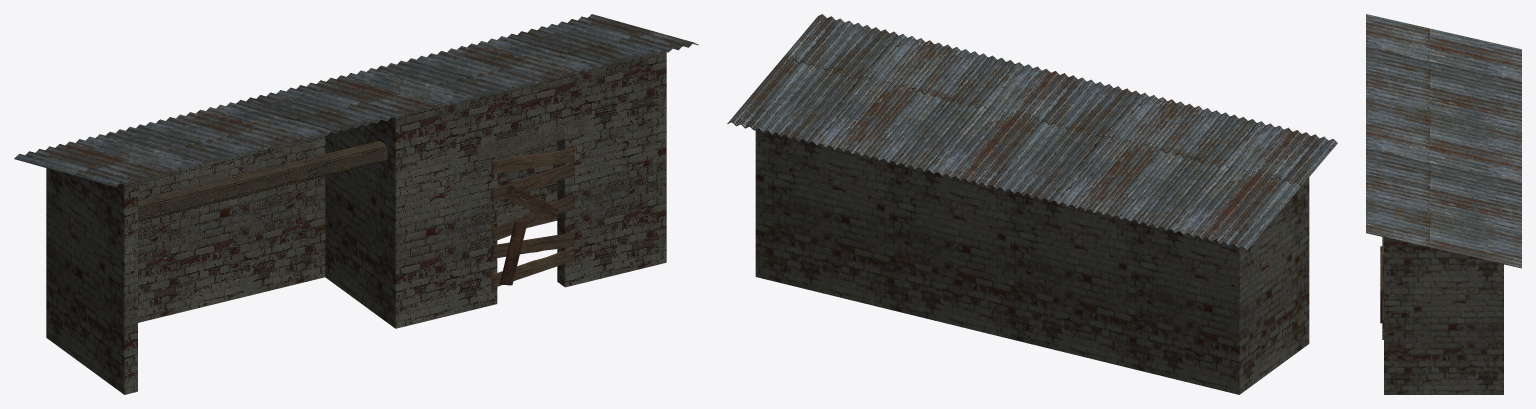
Rendered from shed_ax_3.glb.
The picture shows the model from 3 angles, left to right: view 1: azimuth 30°, elevation 25°; view 2: azimuth 150°, elevation 25°; view 3: azimuth 270°, elevation 25°; orthographic projection. The views are drawn at different scales.
Visible parts, largest first — view 1: shed_ax_3; view 2: shed_ax_3; view 3: shed_ax_3.
Boxes of the visible parts, x1,y1,x2,y2 form: shed_ax_3: (14,14,698,394); shed_ax_3: (727,14,1337,394); shed_ax_3: (1366,14,1521,394).
Size of the model in its own units: 8.59 by 3.17 by 2.6.
Materials: 6 (6 with a texture image).
